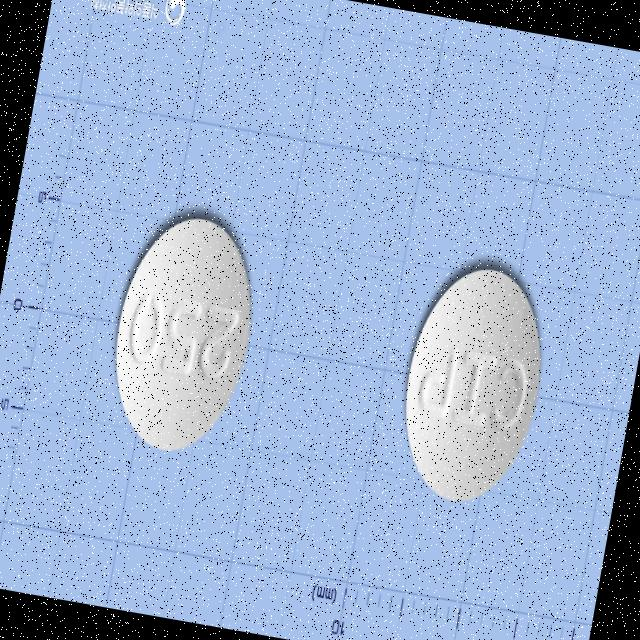Ciprocin: (90, 195, 272, 470), (380, 251, 560, 517)
